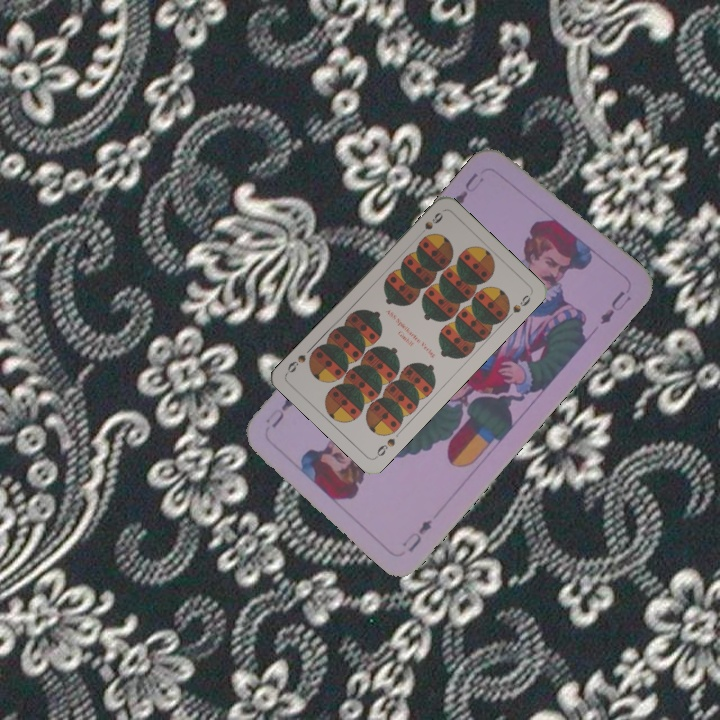EU: (449, 168, 487, 208), (398, 515, 435, 555)
S9: (415, 208, 446, 238), (371, 434, 398, 461)
